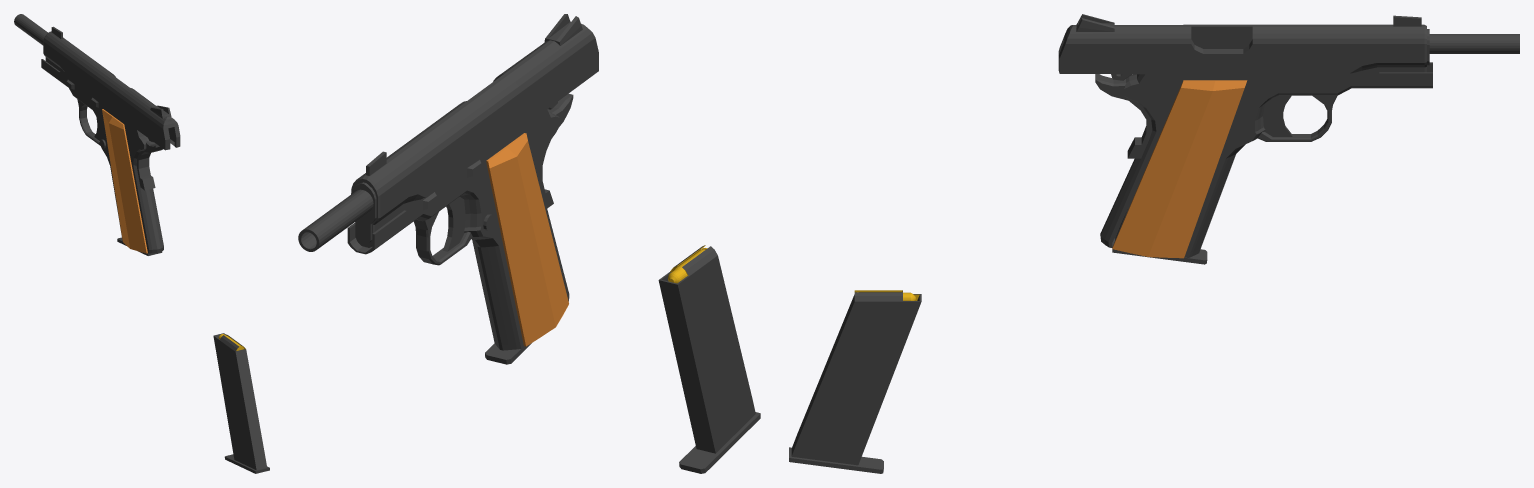
3 views of the same model, side by side, from view 1: azimuth 30°, elevation 25°; view 2: azimuth 150°, elevation 25°; view 3: azimuth 270°, elevation 25° (orthographic). The views are drawn at different scales.
Parts seen in each view (by area): view 1: Cube.002, Cube.009, Cube, Cube.001, Cylinder; view 2: Cube.002, Cube.009, Cube, Cube.001, Cylinder, Cube.008, Cube.006; view 3: Cube.002, Cube.009, Cube, Cube.001, Cylinder, Cube.008.
Part boxes in pixels (x1,y1,x2,y2): Cube.002: [43, 26, 180, 150]; Cube.009: [213, 333, 269, 473]; Cube: [41, 59, 163, 253]; Cube.001: [102, 109, 147, 253]; Cylinder: [14, 14, 47, 45]; Cube.002: [351, 14, 598, 247]; Cube.009: [658, 245, 760, 473]; Cube: [347, 93, 573, 350]; Cube.001: [486, 133, 568, 346]; Cylinder: [298, 189, 373, 251]; Cube.008: [443, 196, 465, 251]; Cube.006: [485, 343, 531, 364]; Cube.002: [1058, 14, 1429, 74]; Cube.009: [789, 290, 921, 473]; Cube: [1095, 62, 1432, 257]; Cube.001: [1112, 80, 1247, 258]; Cylinder: [1429, 34, 1519, 53]; Cube.008: [1263, 95, 1292, 136].
Size of the model in its own units: 0.9909 by 10.81 by 15.82.
